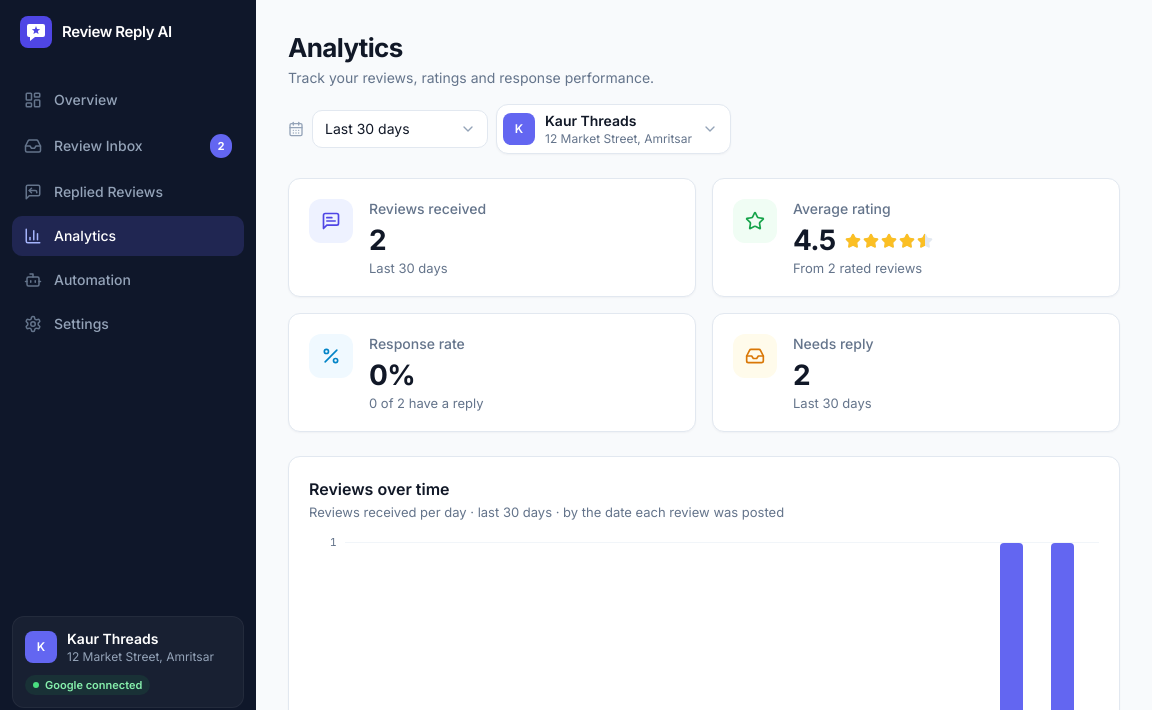
it: Analytics › filters by date range and offers the trend as a table
The image size is (1152, 710).
Expected: the 2nd text "2" is shown, [369,223,386,258]
Select "All time" in the dropdown named "Date range" at (400, 129), box [312,110,488,148]
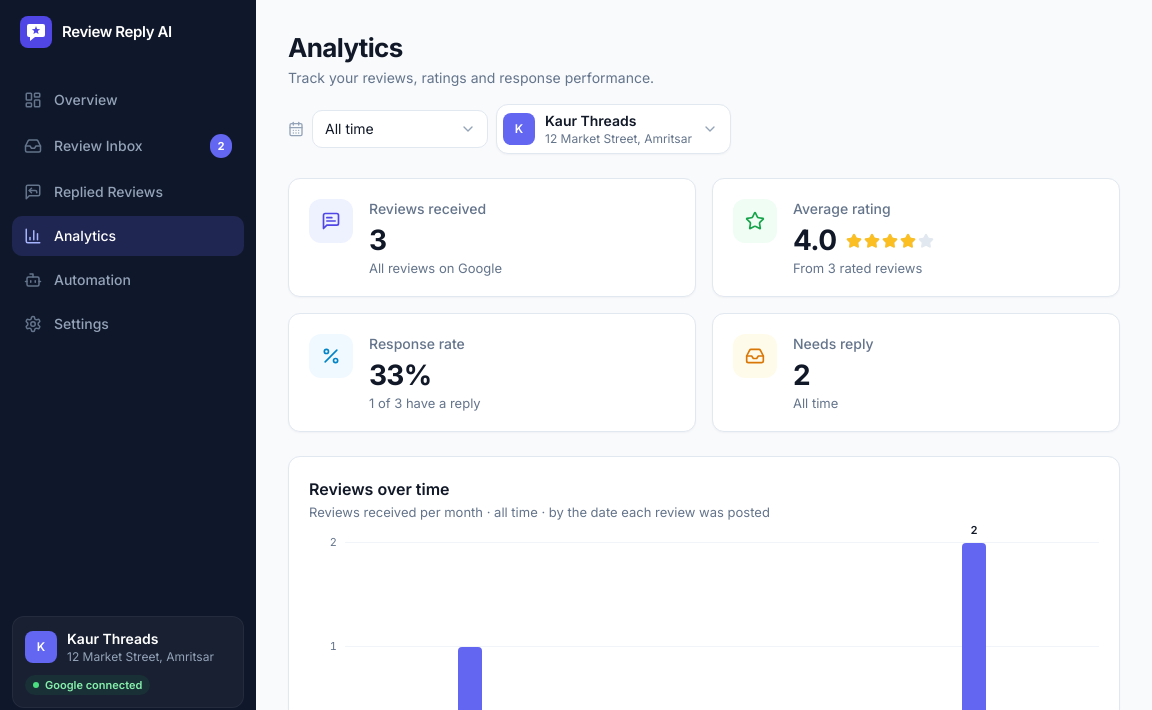
Expected: the text "3" is shown, [369,223,386,258]
Expected: the text "33%" is shown, [369,358,432,393]
Select "Last 7 days" in the dropdown named "Date range" at (400, 129), box [312,110,488,148]
(page scrolled)
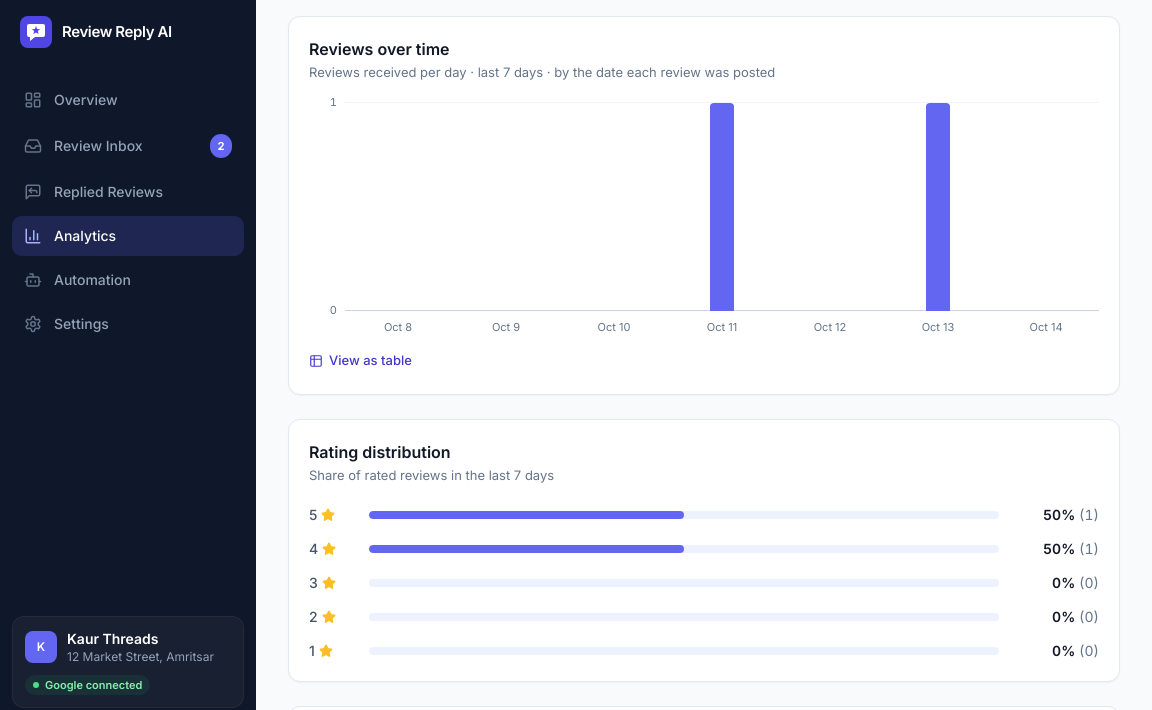
Click the button "View as table" at (360, 361), box [309,351,412,370]
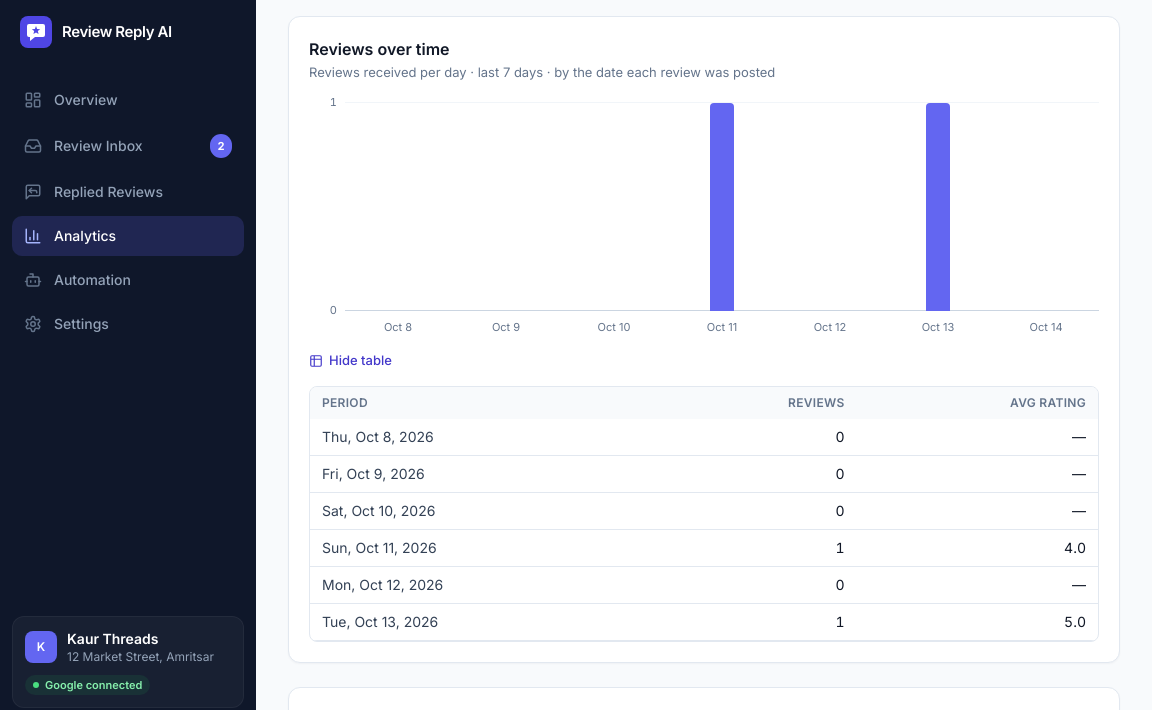
Expected: the number of rows is 8
